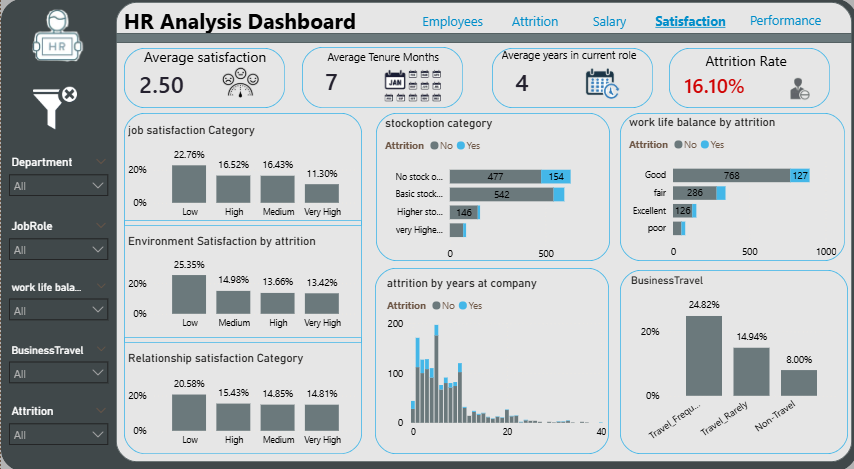

The dashboard page shown, as its layout file describes it:
{"tool":"powerbi","page":{"name":"Satisfaction","canvas":[1070,590],"ordinal":3},"visuals":[{"type":"shape","box":[0,0,1070,590],"z":0},{"type":"shape","box":[143.8,3.8,920,575],"z":1000},{"type":"shape","box":[773.8,338.8,285,230],"z":2000},{"type":"shape","box":[153.8,142.5,297.5,426.2],"z":3000},{"type":"textbox","title":"  HR  Analytics","box":[137.5,3.8,350,47.5],"z":4000},{"type":"image","box":[11.2,10,117.5,70],"z":5000},{"type":"shape","box":[143.8,42.5,920,12.5],"z":6000},{"type":"shape","box":[835,61.2,201.2,75],"z":7000},{"type":"shape","box":[376.2,60,201.2,76.2],"z":8000},{"type":"shape","box":[153.8,61.2,201.2,75],"z":9000},{"type":"shape","box":[613.8,61.2,201.2,75],"z":10000},{"type":"cardVisual","fields":{"Data":["_measures table.average tenure stay"]},"box":[376.2,65,75,70],"z":11000},{"type":"cardVisual","fields":{"Data":["_measures table.Average years in current role"]},"box":[613.8,65,77.5,72.5],"z":13000},{"type":"cardVisual","fields":{"Data":["_measures table.Average satisfaction"]},"box":[143.8,70,123.8,66.2],"z":14000},{"type":"shape","box":[773.8,142.5,281.2,185],"z":15000},{"type":"shape","box":[467.5,336.2,292.5,232.5],"z":16000},{"type":"columnChart","title":"Environment Satisfaction by attrition","fields":{"Y":["_measures table.Attrition Rate"],"Category":["Environment_satisfacation.Environment satisfaction Category"]},"box":[153.8,295,297.5,127.5],"z":17000},{"type":"barChart","title":"work life balance by attrition","fields":{"Category":["dim_work life balance.work life balance category"],"Y":["_measures table.Total Employees"],"Series":["Fact_employee.Attrition"]},"box":[780,146.2,268.8,187.5],"z":18000},{"type":"columnChart","title":"job satisfaction Category","fields":{"Y":["_measures table.Attrition Rate"],"Category":["job_satisfacation.job satisfaction Category"]},"box":[153.8,156.2,297.5,127.5],"z":19000},{"type":"columnChart","title":"Relationship satisfaction Category","fields":{"Y":["_measures table.Attrition Rate"],"Category":["Relationship_satisfacation.Relationship satisfaction Category"]},"box":[153.8,441.2,297.5,127.5],"z":20000},{"type":"shape","box":[468.8,142.5,292.5,185],"z":21000},{"type":"barChart","title":"stockoption category","fields":{"Category":["dim_stock option level.stockoption category"],"Series":["Fact_employee.Attrition"],"Y":["_measures table.Total Employees"]},"box":[475,147.5,292.5,188.8],"z":22000},{"type":"shape","box":[153.8,276.2,297.5,7.5],"z":23000},{"type":"shape","box":[153.8,422.5,297.5,7.5],"z":24000},{"type":"columnChart","title":"attrition by years at company","fields":{"Category":["Fact_employee.YearsAtCompany"],"Y":["_measures table.Total Employees"],"Series":["Fact_employee.Attrition"]},"box":[477.5,347.5,283.8,211.2],"z":25000},{"type":"clusteredColumnChart","title":" BusinessTravel","fields":{"Y":["_measures table.Attrition Rate"],"Category":["dim_Busines travel.BusinessTravel"]},"box":[782.5,343.8,268.8,221.2],"z":26000},{"type":"slicer","fields":{"Values":["dim_department.Department"]},"box":[0,191.2,143.8,56.2],"z":27000},{"type":"slicer","fields":{"Values":["Fact_employee.Attrition"]},"box":[0,502.5,143.8,56.2],"z":28000},{"type":"slicer","fields":{"Values":["dim_job role.JobRole"]},"box":[0,271.2,143.8,56.2],"z":29000},{"type":"slicer","fields":{"Values":["dim_work life balance.work life balance category"]},"box":[0,347.5,143.8,56.2],"z":30000},{"type":"slicer","fields":{"Values":["dim_Busines travel.BusinessTravel"]},"box":[0,426.2,143.8,56.2],"z":31000},{"type":"image","box":[25,108.8,85,55],"z":32000},{"type":"shape","box":[508.8,10,111.2,35],"z":33000},{"type":"shape","box":[620,10,95,35],"z":34000},{"type":"shape","box":[798.8,10,126.2,35],"z":35000},{"type":"shape","box":[722.5,10,76.2,35],"z":36000},{"type":"shape","box":[925,10,111.2,32.5],"z":37000},{"type":"shape","box":[166.2,55,177.5,33.8],"z":37001},{"type":"shape","box":[388.8,55,177.5,33.8],"z":37002},{"type":"shape","box":[621.2,52.5,177.5,33.8],"z":37003},{"type":"cardVisual","fields":{"Data":["_measures table.Attrition Rate"]},"box":[825,72.5,142.5,67.5],"z":37004},{"type":"shape","box":[842.5,60,177.5,33.8],"z":37005},{"type":"image","box":[948.8,88.8,100,40],"z":37006},{"type":"image","box":[243.8,80,111.2,48.8],"z":37007},{"type":"image","box":[451.2,83.8,126.2,48.8],"z":37008},{"type":"image","box":[688.8,81.2,126.2,48.8],"z":37009}]}

Visuals, with their boxes in screenshot pixels (x1, y1, x2, y2), scaled from the page's 1070x590 canvas onto the 854x469 screenshot:
shape: x1=0 y1=0 x2=853 y2=468
shape: x1=115 y1=3 x2=849 y2=460
shape: x1=618 y1=269 x2=845 y2=452
shape: x1=123 y1=113 x2=360 y2=452
"  HR  Analytics" textbox: x1=110 y1=3 x2=389 y2=41
image: x1=9 y1=8 x2=103 y2=64
shape: x1=115 y1=34 x2=849 y2=44
shape: x1=666 y1=49 x2=827 y2=108
shape: x1=300 y1=48 x2=461 y2=108
shape: x1=123 y1=49 x2=283 y2=108
shape: x1=490 y1=49 x2=650 y2=108
cardVisual - _measures table.average tenure stay: x1=300 y1=52 x2=360 y2=107
cardVisual - _measures table.Average years in current role: x1=490 y1=52 x2=552 y2=109
cardVisual - _measures table.Average satisfaction: x1=115 y1=56 x2=214 y2=108
shape: x1=618 y1=113 x2=842 y2=260
shape: x1=373 y1=267 x2=607 y2=452
"Environment Satisfaction by attrition" columnChart: x1=123 y1=234 x2=360 y2=336
"work life balance by attrition" barChart: x1=623 y1=116 x2=837 y2=265
"job satisfaction Category" columnChart: x1=123 y1=124 x2=360 y2=226
"Relationship satisfaction Category" columnChart: x1=123 y1=351 x2=360 y2=452
shape: x1=374 y1=113 x2=608 y2=260
"stockoption category" barChart: x1=379 y1=117 x2=613 y2=267
shape: x1=123 y1=220 x2=360 y2=226
shape: x1=123 y1=336 x2=360 y2=342
"attrition by years at company" columnChart: x1=381 y1=276 x2=608 y2=444
" BusinessTravel" clusteredColumnChart: x1=625 y1=273 x2=839 y2=449
slicer - dim_department.Department: x1=0 y1=152 x2=115 y2=197
slicer - Fact_employee.Attrition: x1=0 y1=399 x2=115 y2=444
slicer - dim_job role.JobRole: x1=0 y1=216 x2=115 y2=260
slicer - dim_work life balance.work life balance category: x1=0 y1=276 x2=115 y2=321
slicer - dim_Busines travel.BusinessTravel: x1=0 y1=339 x2=115 y2=383
image: x1=20 y1=86 x2=88 y2=130
shape: x1=406 y1=8 x2=495 y2=36
shape: x1=495 y1=8 x2=571 y2=36
shape: x1=638 y1=8 x2=738 y2=36
shape: x1=577 y1=8 x2=637 y2=36
shape: x1=738 y1=8 x2=827 y2=34
shape: x1=133 y1=44 x2=274 y2=71
shape: x1=310 y1=44 x2=452 y2=71
shape: x1=496 y1=42 x2=637 y2=69
cardVisual - _measures table.Attrition Rate: x1=658 y1=58 x2=772 y2=111
shape: x1=672 y1=48 x2=814 y2=75
image: x1=757 y1=71 x2=837 y2=102
image: x1=195 y1=64 x2=283 y2=102
image: x1=360 y1=67 x2=461 y2=105
image: x1=550 y1=65 x2=650 y2=103
